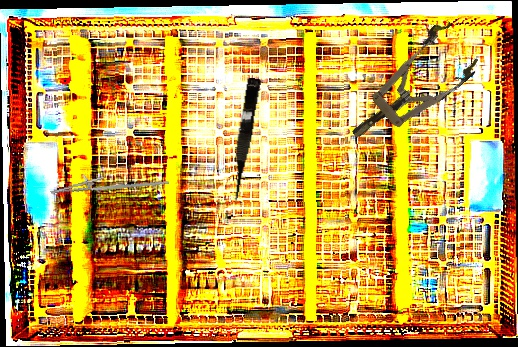Micro Scissor: (225, 77, 262, 205)
Needle Holder: (48, 157, 170, 209)
Speculum: (333, 16, 486, 159)
